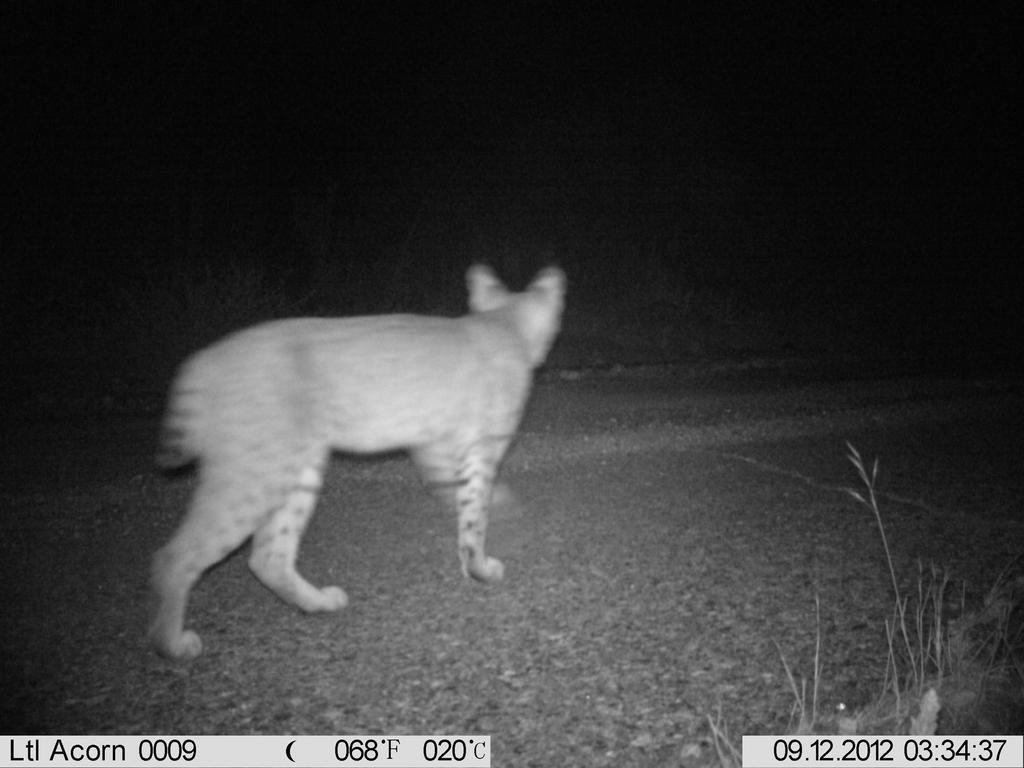bobcat: (123, 241, 603, 676)
